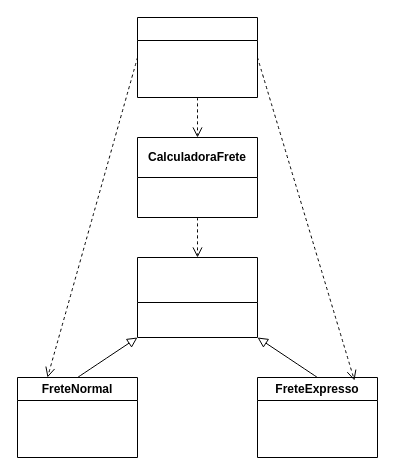
The diagram is 395 pixels wide and 475 high, and some of its shapes have lost their labels. The box of each missing label's shape, as (x1, y1, x2, y2) in pixels:
<<Interface>> TipoFrete: (136, 256, 258, 338)
Pedido: (136, 16, 258, 98)
